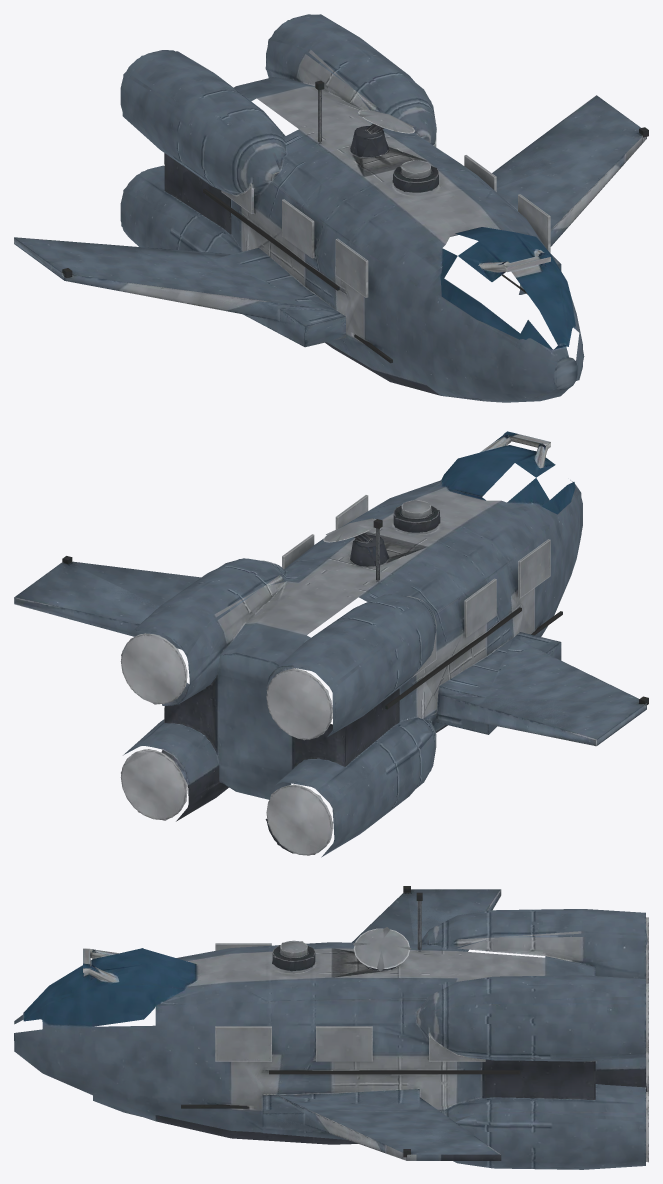
Rendered from sd_ship_kasif_m.glb.
The picture shows the model from 3 angles, top to bottom: view 1: azimuth 30°, elevation 25°; view 2: azimuth 150°, elevation 25°; view 3: azimuth 270°, elevation 25°; orthographic projection. The views are drawn at different scales.
Parts seen in each view (by area): view 1: LOD0_body, LOD1_body; view 2: LOD0_body, LOD1_body; view 3: LOD0_body, LOD1_body.
Part boxes in pixels (x1,y1,x2,y2): LOD0_body: [14, 14, 648, 402]; LOD1_body: [14, 14, 644, 401]; LOD0_body: [14, 431, 648, 855]; LOD1_body: [14, 435, 646, 857]; LOD0_body: [14, 886, 648, 1169]; LOD1_body: [14, 890, 648, 1168].
Size of the model in its own units: 0.9901 by 0.3884 by 1.
Materials: 1 (1 with a texture image).
